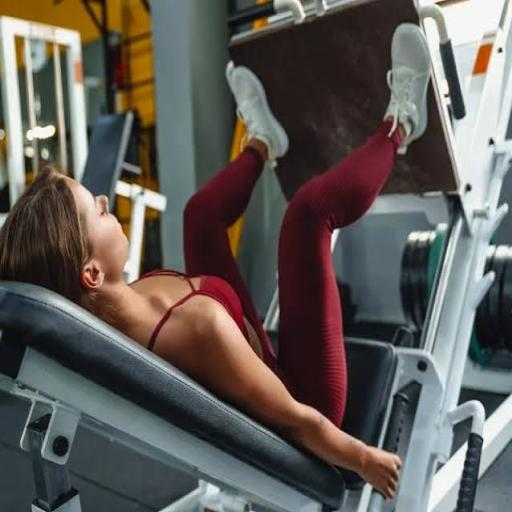Leg Press: (22, 4, 436, 470)
